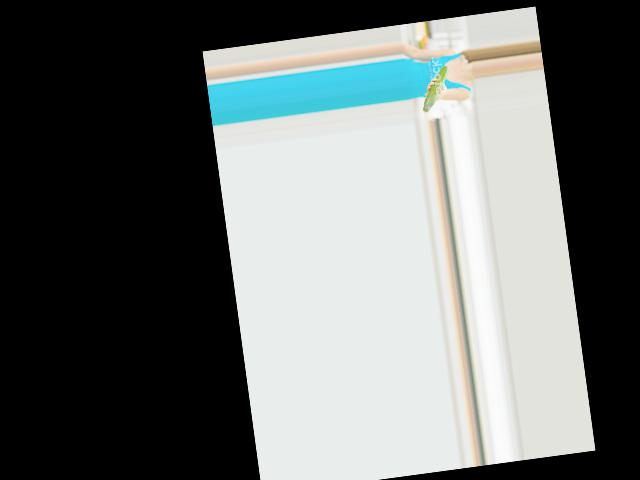cucumber: (417, 65, 453, 112)
